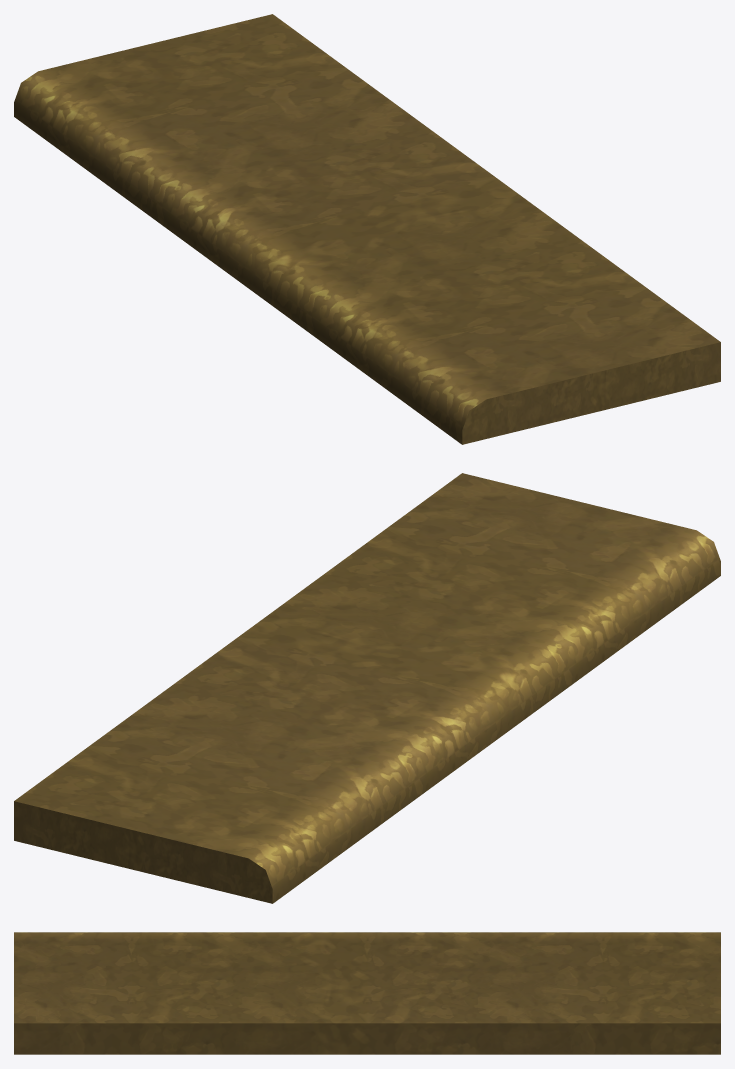
Rendered from DI_032_shelf_var01.glb.
3 renders of one model, top to bottom at view 1: azimuth 30°, elevation 25°; view 2: azimuth 150°, elevation 25°; view 3: azimuth 270°, elevation 25°, orthographic. The views are drawn at different scales.
Visible parts, largest first — view 1: Shelf.005; view 2: Shelf.005; view 3: Shelf.005.
Boxes of the visible parts, x1=… form: Shelf.005: x1=14, y1=14, x2=720, y2=444; Shelf.005: x1=14, y1=473, x2=720, y2=903; Shelf.005: x1=14, y1=932, x2=720, y2=1054.
Bounding box in the file's own units: 0.75 × 0.1097 × 2.25.
1 material, 1 textured.
